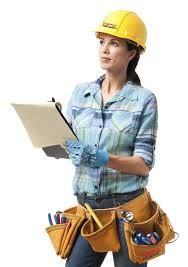Person_wearing_helmet: (86, 5, 147, 47)
